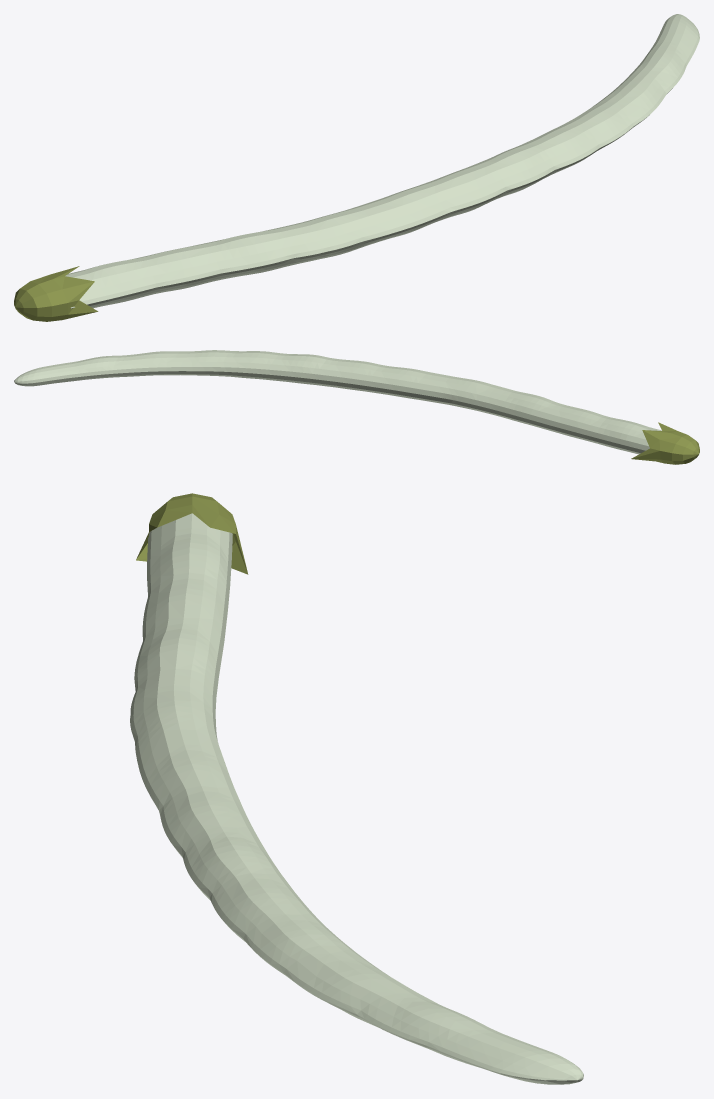
File: CowpeaPod.obj
3 renders of one model, top to bottom at view 1: azimuth 30°, elevation 25°; view 2: azimuth 150°, elevation 25°; view 3: azimuth 270°, elevation 25°, orthographic. The views are drawn at different scales.
Visible parts, largest first — view 1: fruit, sepal; view 2: fruit, sepal; view 3: fruit, sepal.
Part boxes in pixels (x1,y1,x2,y2): fruit: (65,14,699,308); sepal: (14,266,98,321); fruit: (14,350,661,454); sepal: (631,422,699,464); fruit: (130,513,583,1084); sepal: (136,493,248,574).
Bounding box in the file's own units: 0.8665 × 0.0401 × 0.2891.
